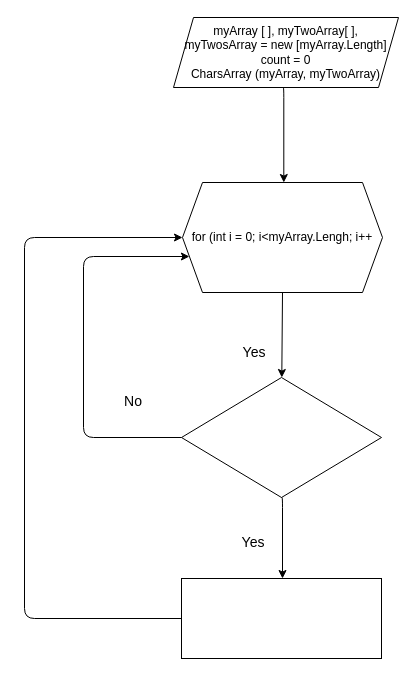
Image size: 416x676. Some labels were removed from this diagram. Here are the shapes that lost their labels. From the top down, the centre of each, then its label:
At (x=281, y=437): "myArray [i] Length <= 3".
At (x=281, y=618): "myTworArray[count] = myArray [i] count++".
